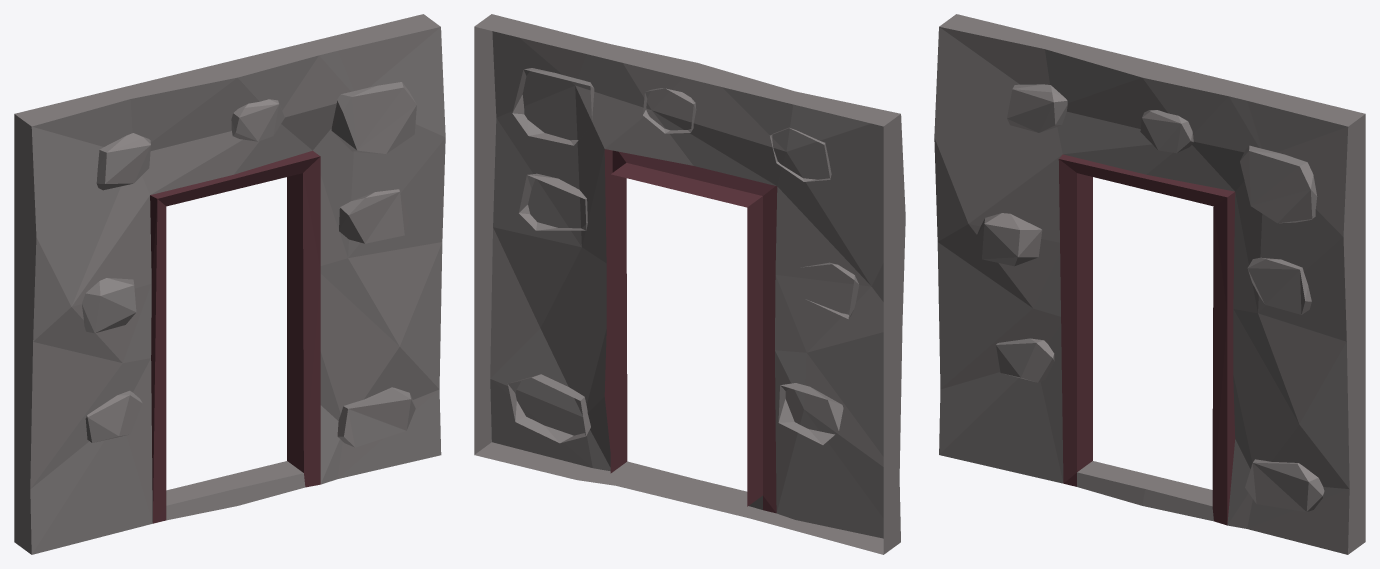
Rendered from wall-stone-door-3x3m-a.fbx.
3 views of the same model, side by side, from view 1: azimuth 30°, elevation 25°; view 2: azimuth 150°, elevation 25°; view 3: azimuth 330°, elevation 25° (orthographic).
Visible parts, largest first — view 1: wall-stone-door-3x3m-a; view 2: wall-stone-door-3x3m-a; view 3: wall-stone-door-3x3m-a.
Boxes of the visible parts, <box> form: wall-stone-door-3x3m-a: <box>14,14,445,554</box>; wall-stone-door-3x3m-a: <box>474,14,905,554</box>; wall-stone-door-3x3m-a: <box>934,14,1365,554</box>.
Bounding box in the file's own units: 3 × 3 × 0.3848.
